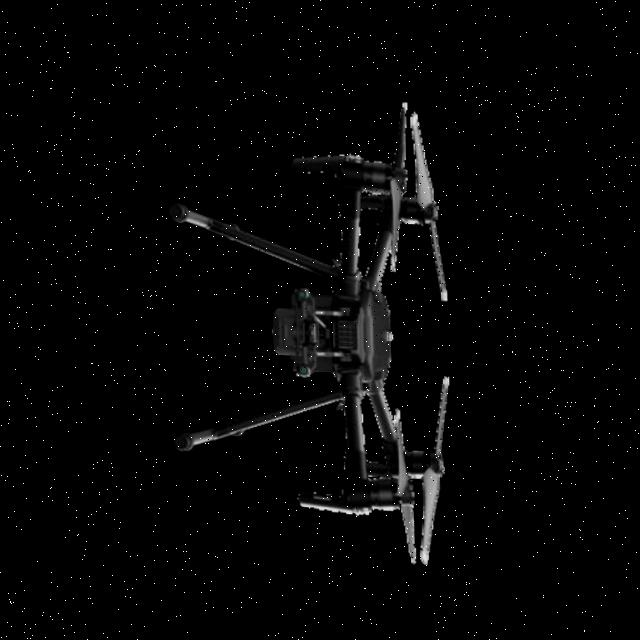drone: (0, 0, 579, 640)
